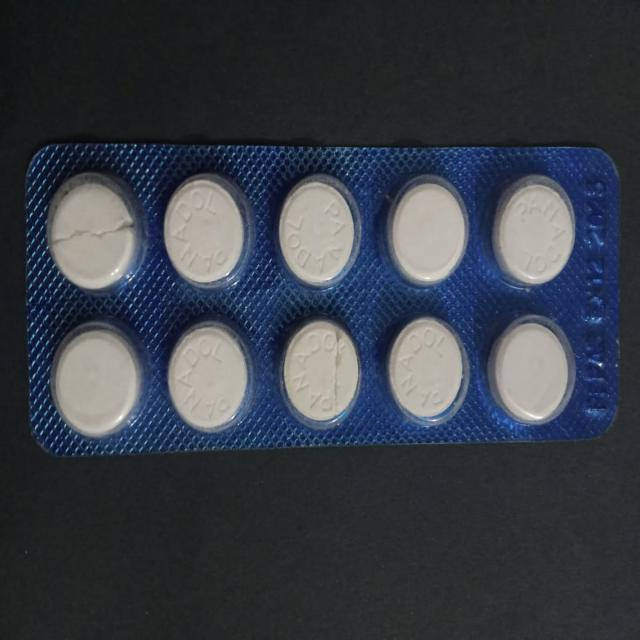defect: (44, 167, 146, 300), (280, 313, 364, 434)
